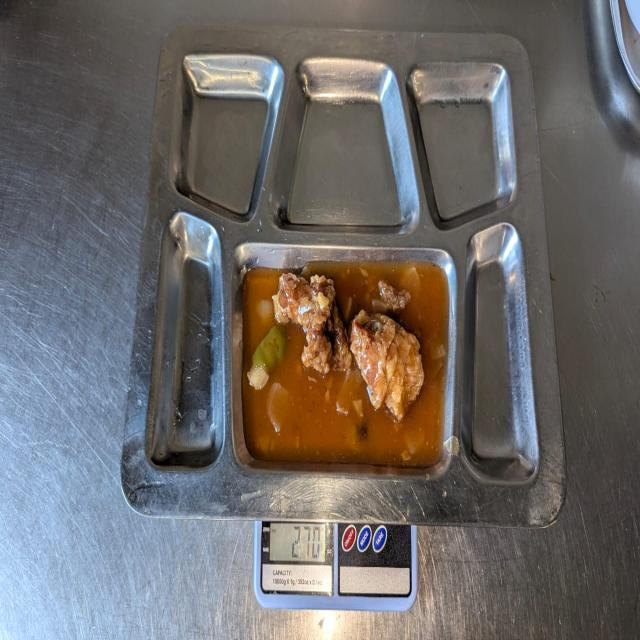Chicken Curry: (245, 269, 442, 452)
